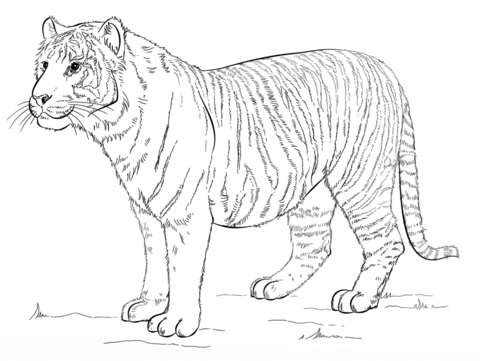Tigrew: (18, 12, 461, 331)
